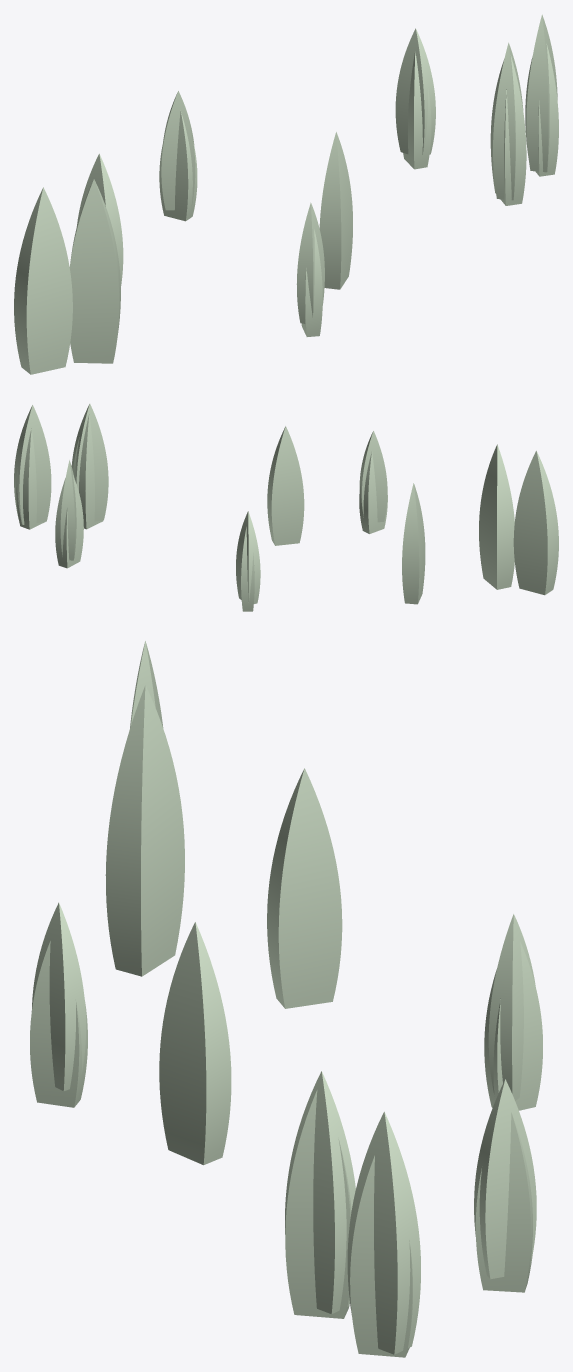
The model's file is tall-grass.gltf.
The picture shows the model from 3 angles, top to bottom: view 1: azimuth 30°, elevation 25°; view 2: azimuth 150°, elevation 25°; view 3: azimuth 270°, elevation 25°; orthographic projection. The views are drawn at different scales.
Parts seen in each view (by area): view 1: Half Blade; view 2: Half Blade; view 3: Half Blade.
Part boxes in pixels (<box>): Half Blade: <box>14,14,558,374</box>; Half Blade: <box>14,403,558,611</box>; Half Blade: <box>30,641,542,1357</box>.
Size of the model in its own units: 4.46 by 1.27 by 2.08.
